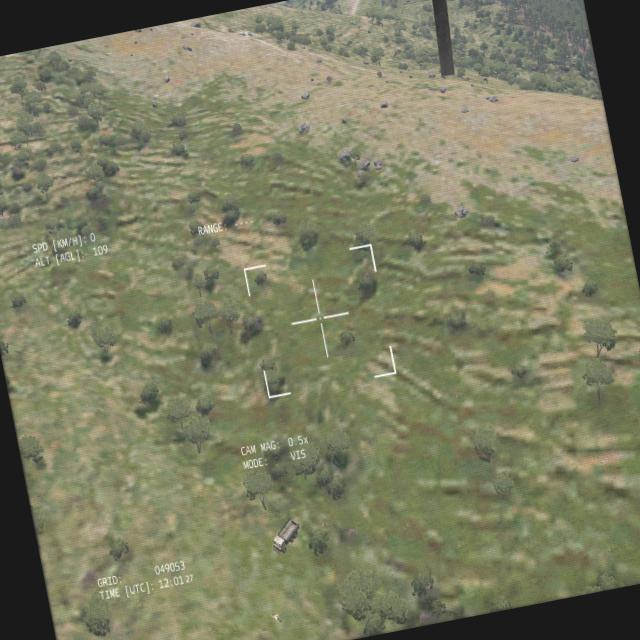truck: (266, 514, 304, 558)
